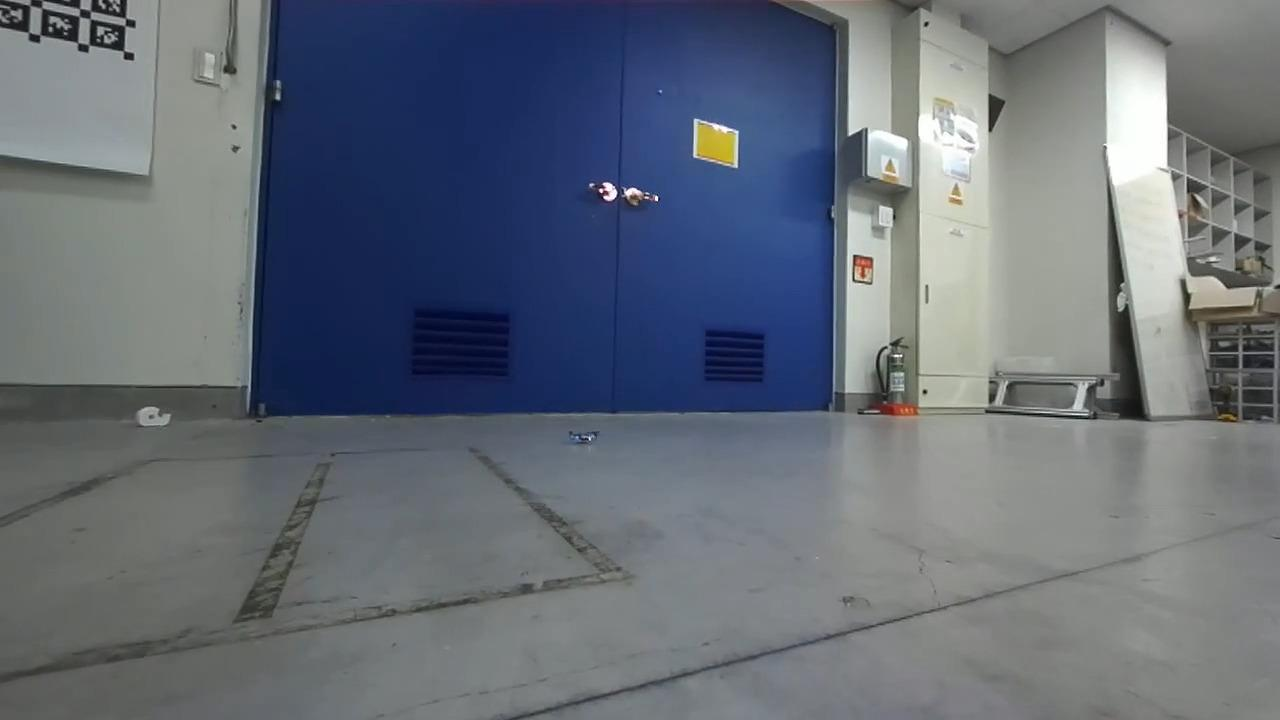crazyflie: (560, 423, 611, 453)
